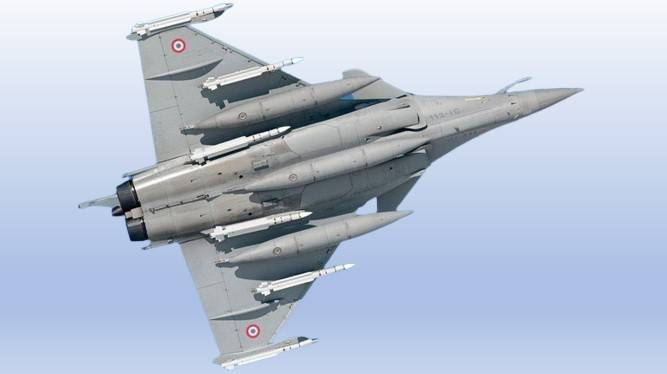Rafale: (74, 7, 593, 374)
